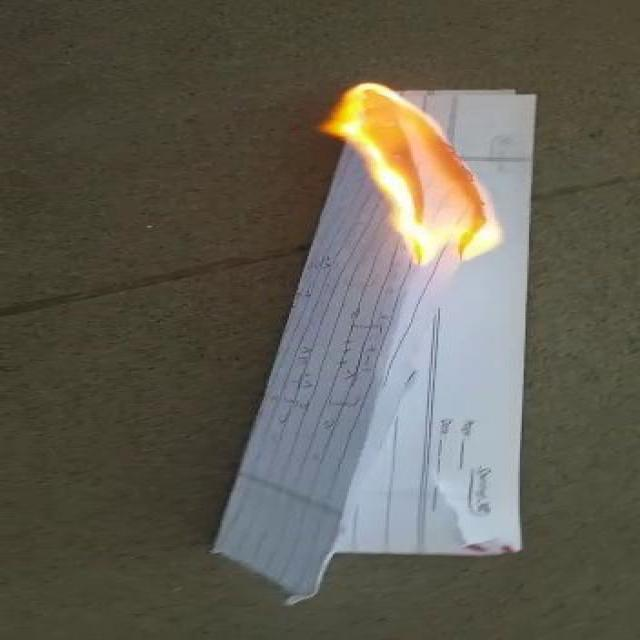Fire: (322, 79, 506, 266)
